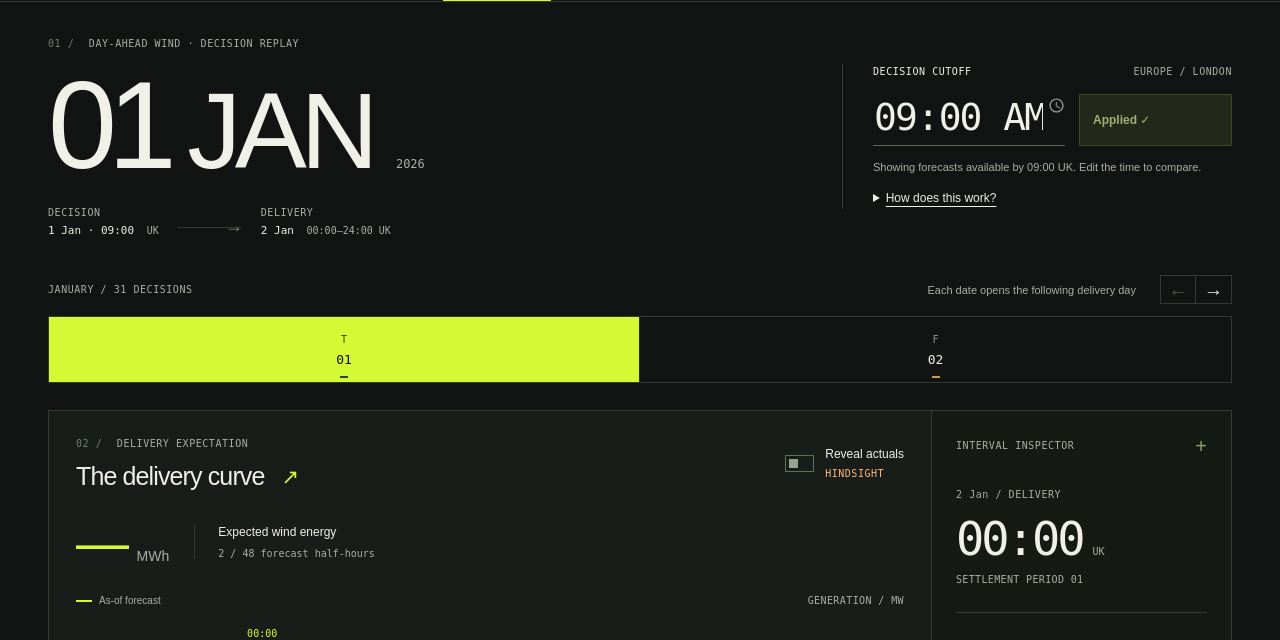
it: decision replay › keeps hindsight outcomes hidden until explicitly revealed; filters sign and missing values correctly
expect the heading "The delivery curve ↗" is shown: met, box left=76, top=463, right=298, bottom=491
expect the column heading "Actual · MW" is not shown: met
Click the checkbox labelled "Reveal actuals HINDSIGHT".
click(845, 463)  # box left=785, top=447, right=904, bottom=480
(page scrolled)
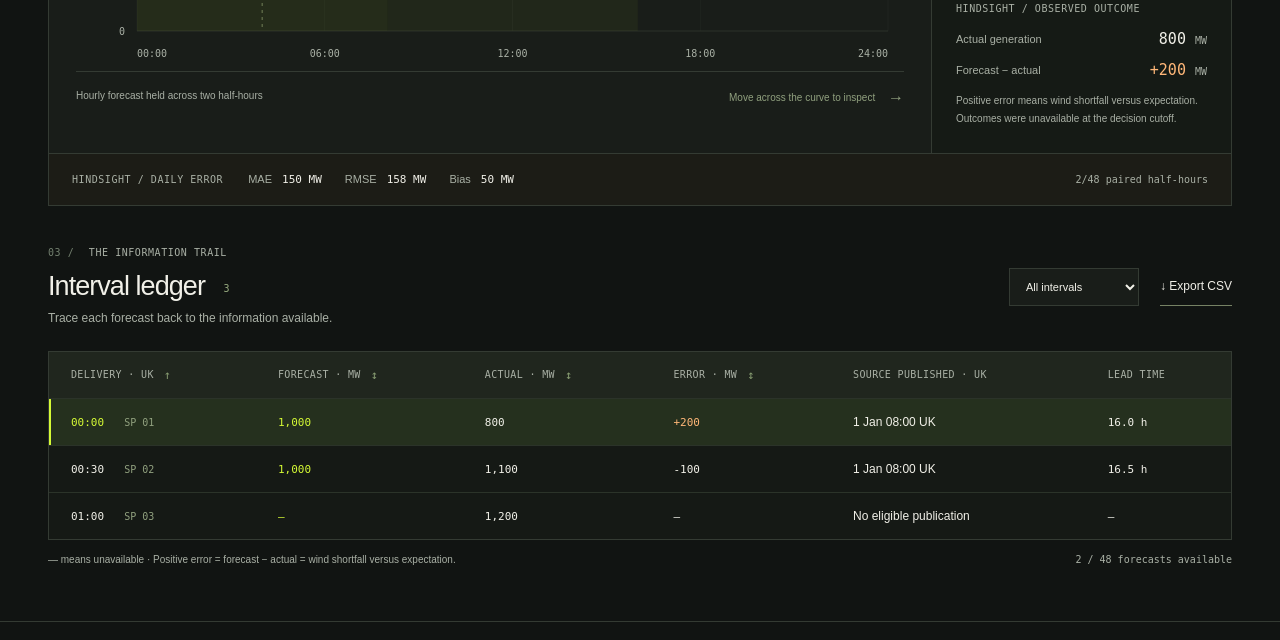
expect the column heading "Actual · MW" is shown: met, box left=463, top=352, right=651, bottom=399
Select "Wind shortfall (+)" in the dropdown named "Filter intervals" at (1074, 287), box left=1009, top=268, right=1139, bottom=306
(page scrolled)
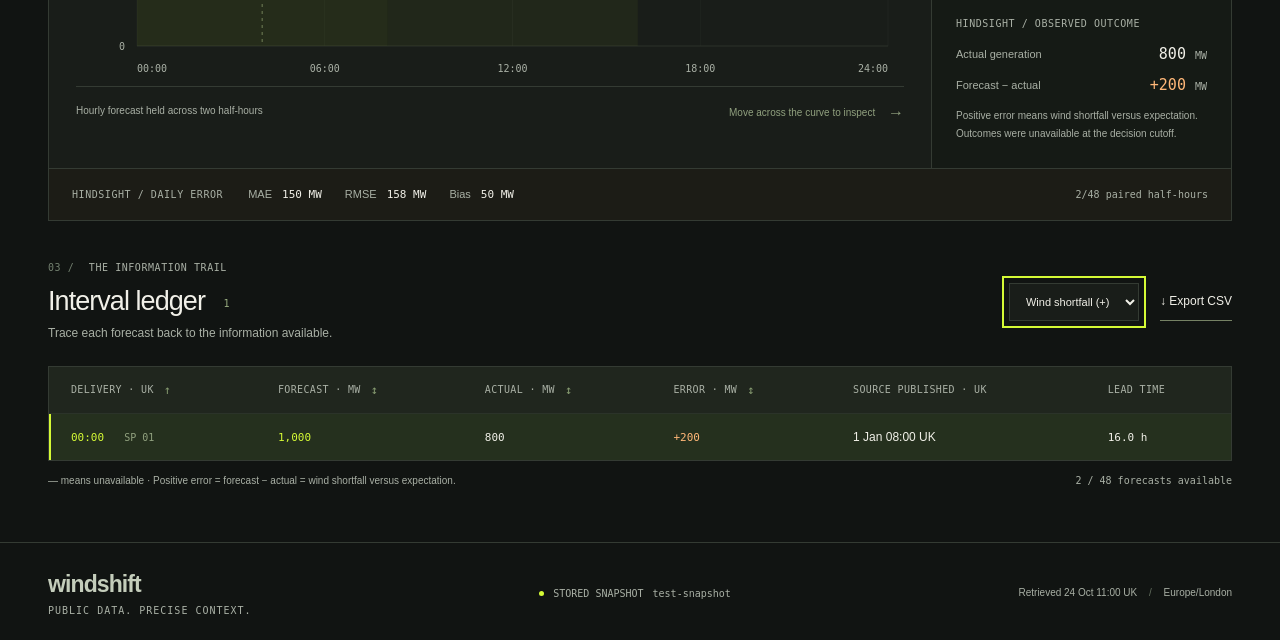
expect the text "+200" is shown: met, box left=652, top=414, right=831, bottom=460
expect the number of rows is 2: met, box left=49, top=367, right=1231, bottom=414; left=49, top=414, right=1231, bottom=460
Select "Missing data" in the dropdown named "Filter intervals" at (1074, 302), box left=1009, top=283, right=1139, bottom=321
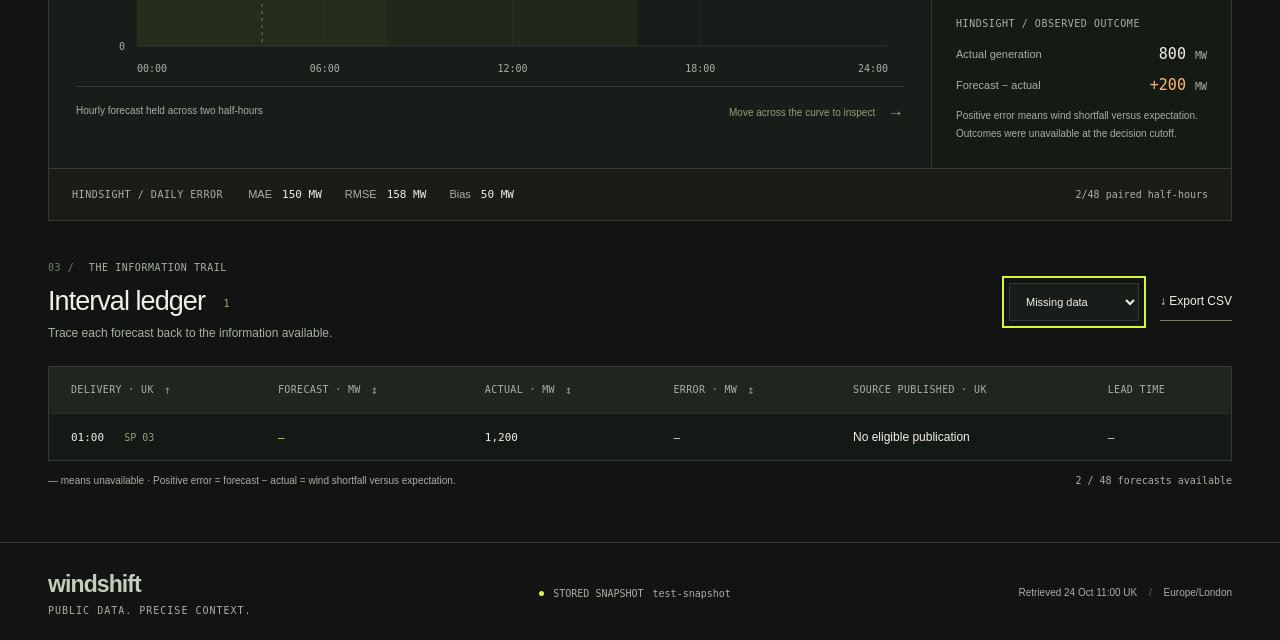
expect the button "01:00 SP 03" is shown: met, box left=71, top=428, right=154, bottom=446
expect the button "00:00 SP 01" is gone: met
